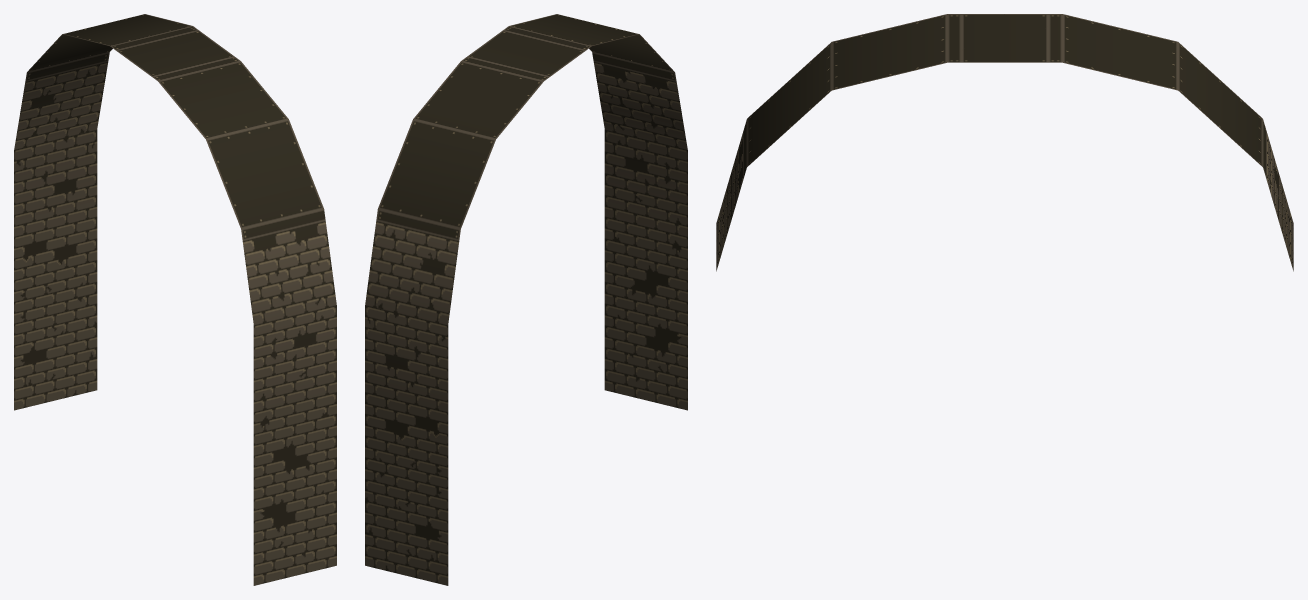
Rendered from Arc02Type03.fbx.
The picture shows the model from 3 angles, left to right: view 1: azimuth 30°, elevation 25°; view 2: azimuth 150°, elevation 25°; view 3: azimuth 270°, elevation 25°; orthographic projection. The views are drawn at different scales.
Visible parts, largest first — view 1: Arc01Type03, Arc02Type03; view 2: Arc02Type03, Arc01Type03; view 3: Arc01Type03, Arc02Type03.
Boxes of the visible parts, bbox=[...] form: Arc01Type03: bbox=[134, 43, 336, 585]; Arc02Type03: bbox=[14, 14, 216, 410]; Arc02Type03: bbox=[365, 43, 567, 585]; Arc01Type03: bbox=[485, 14, 687, 410]; Arc01Type03: bbox=[716, 14, 1004, 271]; Arc02Type03: bbox=[1005, 14, 1293, 271].
Bounding box in the file's own units: 200 × 1000 × 1000.
